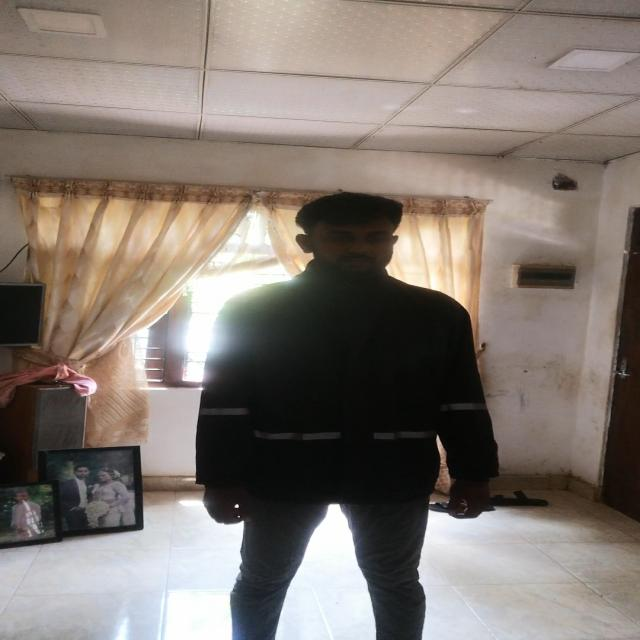Jacket_Wearer: (194, 272, 498, 528)
Person: (193, 194, 505, 640)
